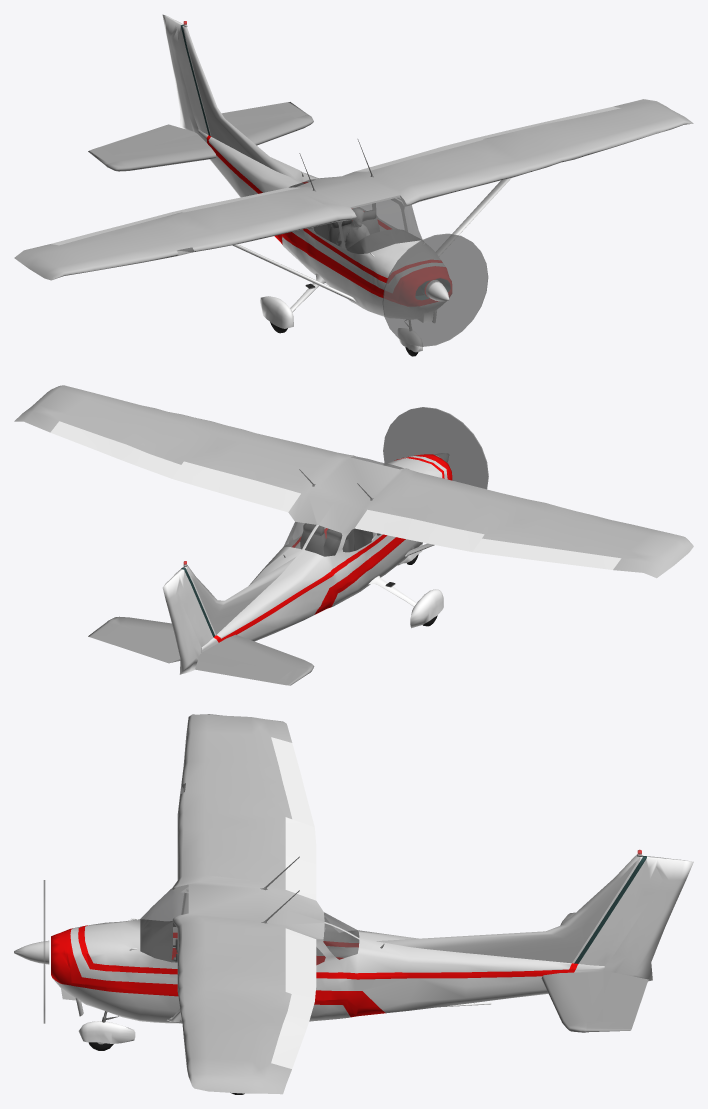
The model's file is Cessna.obj.
The picture shows the model from 3 angles, top to bottom: view 1: azimuth 30°, elevation 25°; view 2: azimuth 150°, elevation 25°; view 3: azimuth 270°, elevation 25°; orthographic projection. The views are drawn at different scales.
Parts seen in each view (by area): view 1: Cessna-GRP-43625-Color_002, Cessna-SKP-Gray_Glass, Cessna-GRP-43625-Color_001, Cessna-GRP-43624-Color_003, Cessna-GRP-43625-Color_A01, Cessna-GRP-10584-Gray_Glass, Cessna-GRP-43622-White, Cessna-GRP-43623-Color_003, Cessna-GRP-43622-Color_002, Cessna-GRP-43625-White, Cessna-COM-ske2A3-54214-White, Cessna-COM-Group_21-43805-White (+4 smaller); view 2: Cessna-GRP-43625-Color_002, Cessna-GRP-43625-White, Cessna-GRP-43625-Color_001, Cessna-SKP-Gray_Glass, Cessna-GRP-43624-Color_003, Cessna-GRP-43622-White, Cessna-GRP-43623-Color_003, Cessna-GRP-43625-Color_A01, Cessna-GRP-43622-Color_002, Cessna-GRP-43808-DarkGray, Cessna-COM-Group_21-43805-White, Cessna-GRP-19540-Gray_Glass (+2 smaller); view 3: Cessna-GRP-43625-Color_002, Cessna-GRP-43625-Color_001, Cessna-GRP-43625-White, Cessna-GRP-43622-White, Cessna-GRP-43625-Color_A01, Cessna-GRP-43622-Color_002, Cessna-GRP-43623-Color_003, Cessna-GRP-10584-Gray_Glass, Cessna-COM-ske2A3-54214-White, Cessna-GRP-44000-DarkGray, Cessna-GRP-26024-Gray_Glass, Cessna-GRP-44309-Color_001.
Boxes of the visible parts, bbox=[...] form: Cessna-GRP-43625-Color_002: bbox=[14, 99, 693, 280]; Cessna-SKP-Gray_Glass: bbox=[382, 233, 488, 346]; Cessna-GRP-43625-Color_001: bbox=[198, 129, 446, 319]; Cessna-GRP-43624-Color_003: bbox=[88, 124, 216, 171]; Cessna-GRP-43625-Color_A01: bbox=[206, 135, 451, 306]; Cessna-GRP-10584-Gray_Glass: bbox=[341, 195, 422, 253]; Cessna-GRP-43622-White: bbox=[162, 14, 211, 136]; Cessna-GRP-43623-Color_003: bbox=[221, 102, 313, 145]; Cessna-GRP-43622-Color_002: bbox=[183, 26, 295, 178]; Cessna-GRP-43625-White: bbox=[51, 106, 620, 255]; Cessna-COM-ske2A3-54214-White: bbox=[232, 178, 511, 352]; Cessna-COM-Group_21-43805-White: bbox=[260, 273, 325, 328]; Cessna-GRP-43625-Color_002: bbox=[14, 385, 693, 578]; Cessna-GRP-43625-White: bbox=[50, 421, 621, 652]; Cessna-GRP-43625-Color_001: bbox=[202, 456, 447, 652]; Cessna-SKP-Gray_Glass: bbox=[383, 407, 488, 489]; Cessna-GRP-43624-Color_003: bbox=[195, 634, 314, 685]; Cessna-GRP-43622-White: bbox=[162, 567, 215, 674]; Cessna-GRP-43623-Color_003: bbox=[88, 616, 180, 663]; Cessna-GRP-43625-Color_A01: bbox=[214, 454, 452, 642]; Cessna-GRP-43622-Color_002: bbox=[186, 557, 295, 634]; Cessna-GRP-43808-DarkGray: bbox=[300, 523, 380, 556]; Cessna-COM-Group_21-43805-White: bbox=[368, 576, 443, 628]; Cessna-GRP-19540-Gray_Glass: bbox=[305, 525, 342, 556]; Cessna-GRP-43625-Color_002: bbox=[172, 714, 324, 1094]; Cessna-GRP-43625-Color_001: bbox=[52, 893, 604, 1023]; Cessna-GRP-43625-White: bbox=[173, 737, 316, 1068]; Cessna-GRP-43622-White: bbox=[572, 856, 693, 981]; Cessna-GRP-43625-Color_A01: bbox=[51, 925, 578, 1017]; Cessna-GRP-43622-Color_002: bbox=[376, 855, 640, 963]; Cessna-GRP-43623-Color_003: bbox=[541, 972, 648, 1032]; Cessna-GRP-10584-Gray_Glass: bbox=[140, 884, 188, 962]; Cessna-COM-ske2A3-54214-White: bbox=[78, 893, 474, 1043]; Cessna-GRP-44000-DarkGray: bbox=[140, 919, 177, 962]; Cessna-GRP-26024-Gray_Glass: bbox=[323, 923, 359, 959]; Cessna-GRP-44309-Color_001: bbox=[14, 940, 49, 964].
Size of the model in its own units: 11.03 by 2.76 by 8.48.
